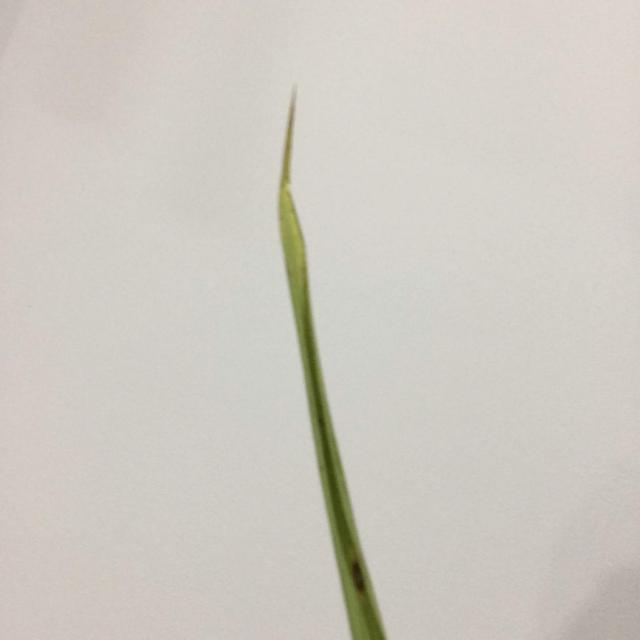Blast: (350, 560, 368, 596)
